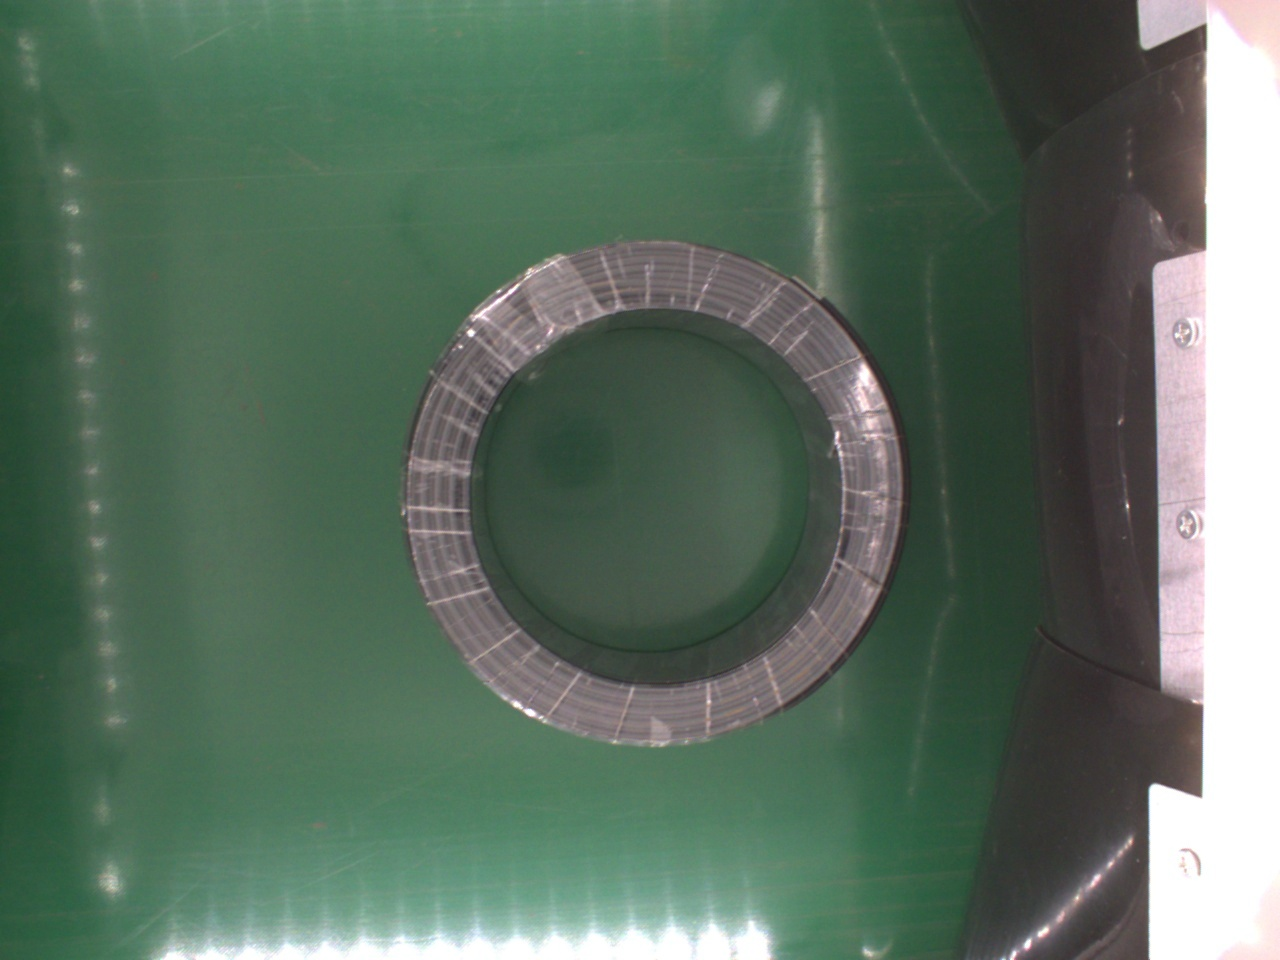black: (400, 237, 908, 749)
